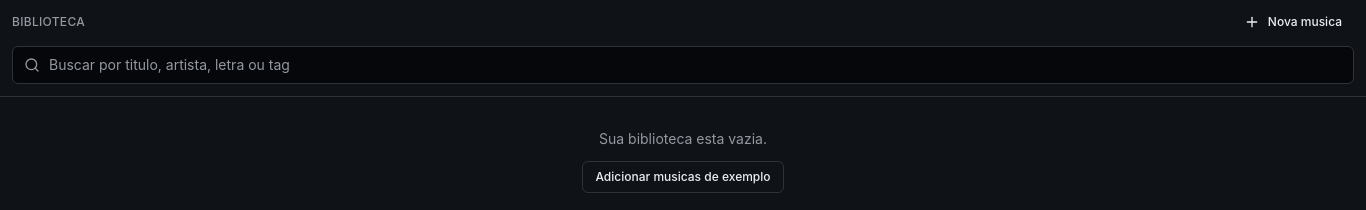
Test case: biblioteca vazia › nao oferece exemplos quando a lista esta vazia por causa da busca
Type "inexistente" into the search field named "buscar musicas" at point(683, 65), box [12,46,1354,84]
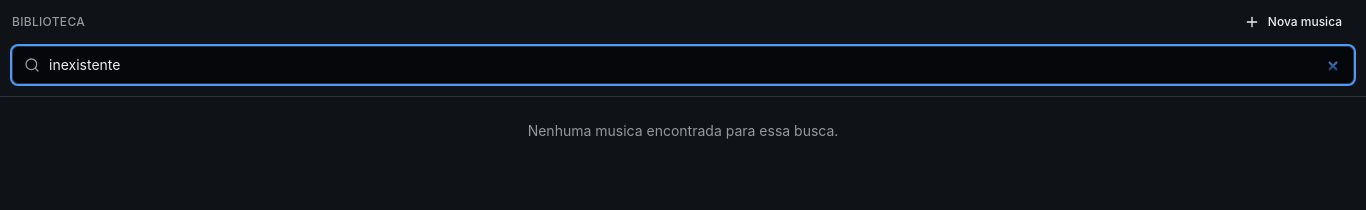
Result: the text "Nenhuma musica encontrada para essa busca." is shown at [528,122,838,139]
Result: the button "Adicionar musicas de exemplo" is gone
